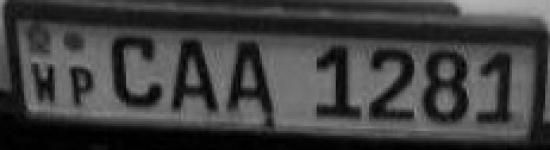1: (309, 38, 364, 125), (473, 48, 523, 131)
2: (363, 41, 420, 126)
8: (417, 44, 473, 126)
A: (222, 38, 280, 120), (169, 36, 221, 117)
C: (106, 30, 165, 113)
P: (66, 62, 100, 110)
W: (24, 57, 62, 106)
